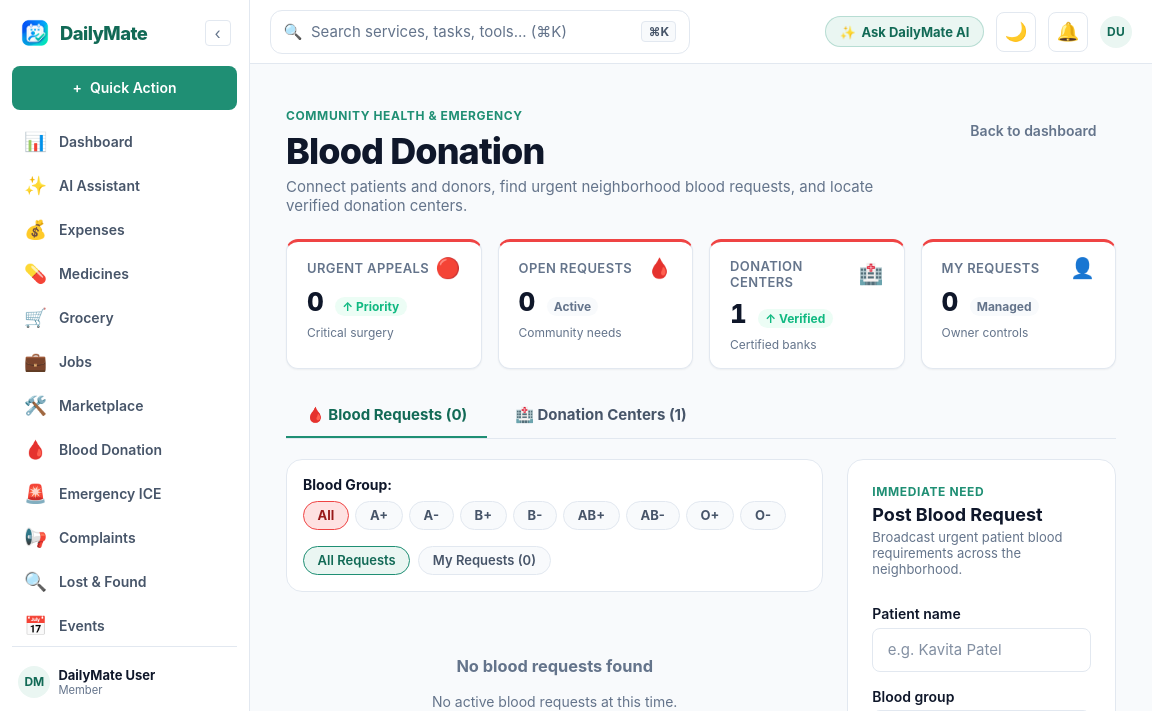
Test: BloodDonationPage › switches to Donation Centers tab and lists centers
This screenshot has width=1152, height=711.
What coordinates should you click on to do the following:
click the button "🏥 Donation Centers (1)"
I would click on:
 (601, 415)
Its box is x1=495 y1=393 x2=707 y2=438.
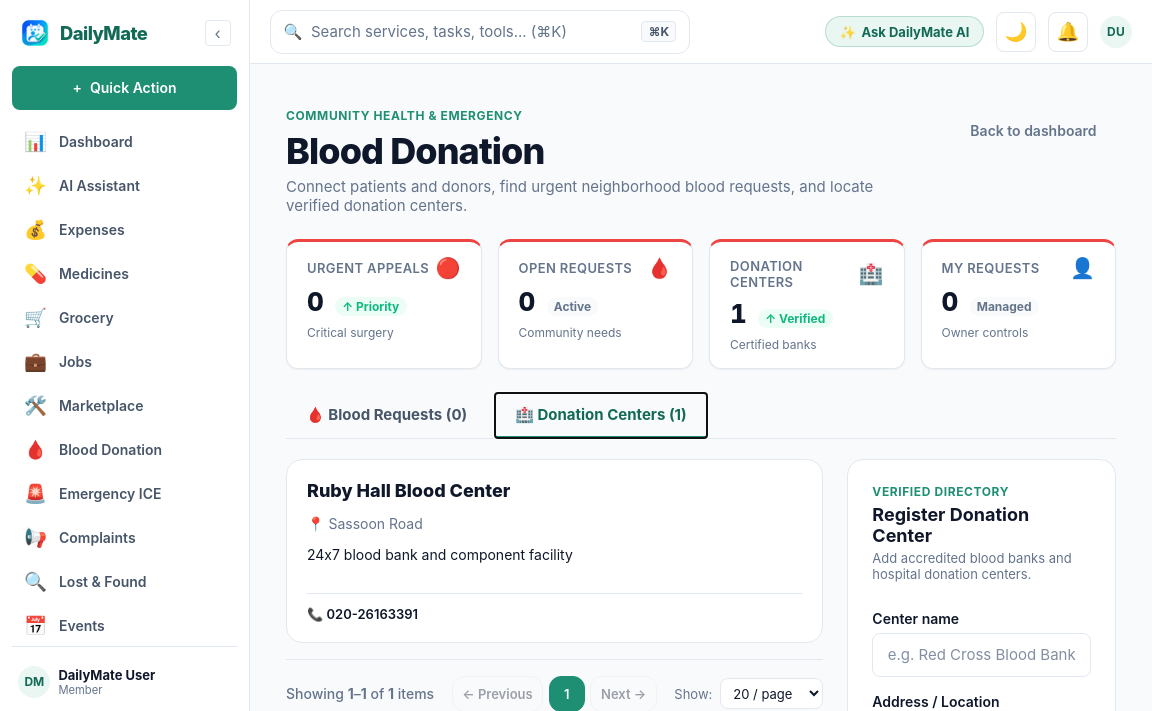
Now the heading "Ruby Hall Blood Center" is shown, box x1=307 y1=480 x2=510 y2=501
Now the text "📍 Sassoon Road" is shown, box x1=307 y1=515 x2=423 y2=532
